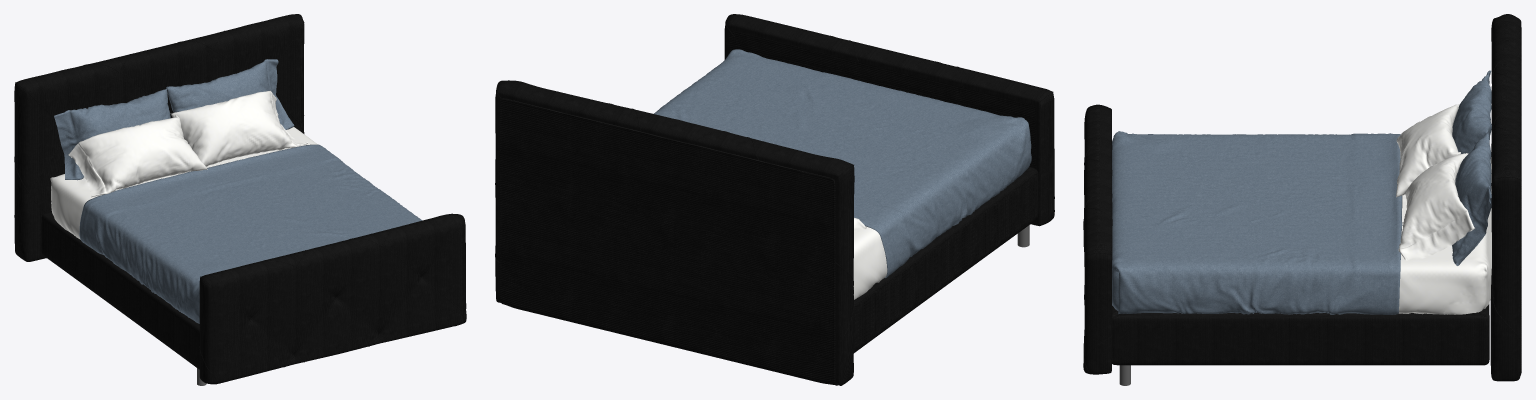
The model's file is Bed_Double.glb.
3 renders of one model, left to right at view 1: azimuth 30°, elevation 25°; view 2: azimuth 150°, elevation 25°; view 3: azimuth 270°, elevation 25°, orthographic. The views are drawn at different scales.
Visible parts, largest first — view 1: Capçal final.001, Capçal final.004, Capçal final.003; view 2: Capçal final.002, Capçal final.004, Capçal final.001, Capçal final.003; view 3: Capçal final.004, Capçal final.001, Capçal final.003.
Boxes of the visible parts, x1,y1,x2,y2 form: Capçal final.001: (14,14,466,384); Capçal final.004: (54,59,422,323); Capçal final.003: (50,90,317,239); Capçal final.002: (499,31,1035,385); Capçal final.004: (653,49,1031,277); Capçal final.001: (495,14,1054,385); Capçal final.003: (853,217,887,299); Capçal final.004: (1112,70,1491,314); Capçal final.001: (1083,14,1521,381); Capçal final.003: (1396,104,1491,314).
Bounding box in the file's own units: 2.05 × 1.29 × 2.32.
Materials: 6 (4 with a texture image).
